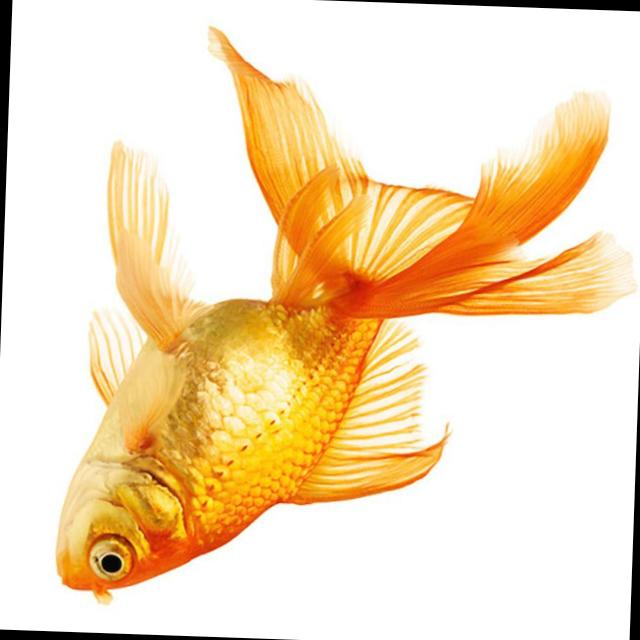GoldFish: (52, 14, 640, 623)
